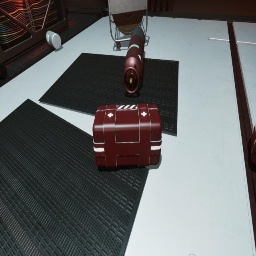0: (46, 30, 61, 50)
FireExtinguisher ]: (0, 63, 7, 80)
FirstAidBox ,: (93, 103, 162, 168), (251, 123, 256, 166)
NitrogenTank ,: (123, 26, 145, 94)
